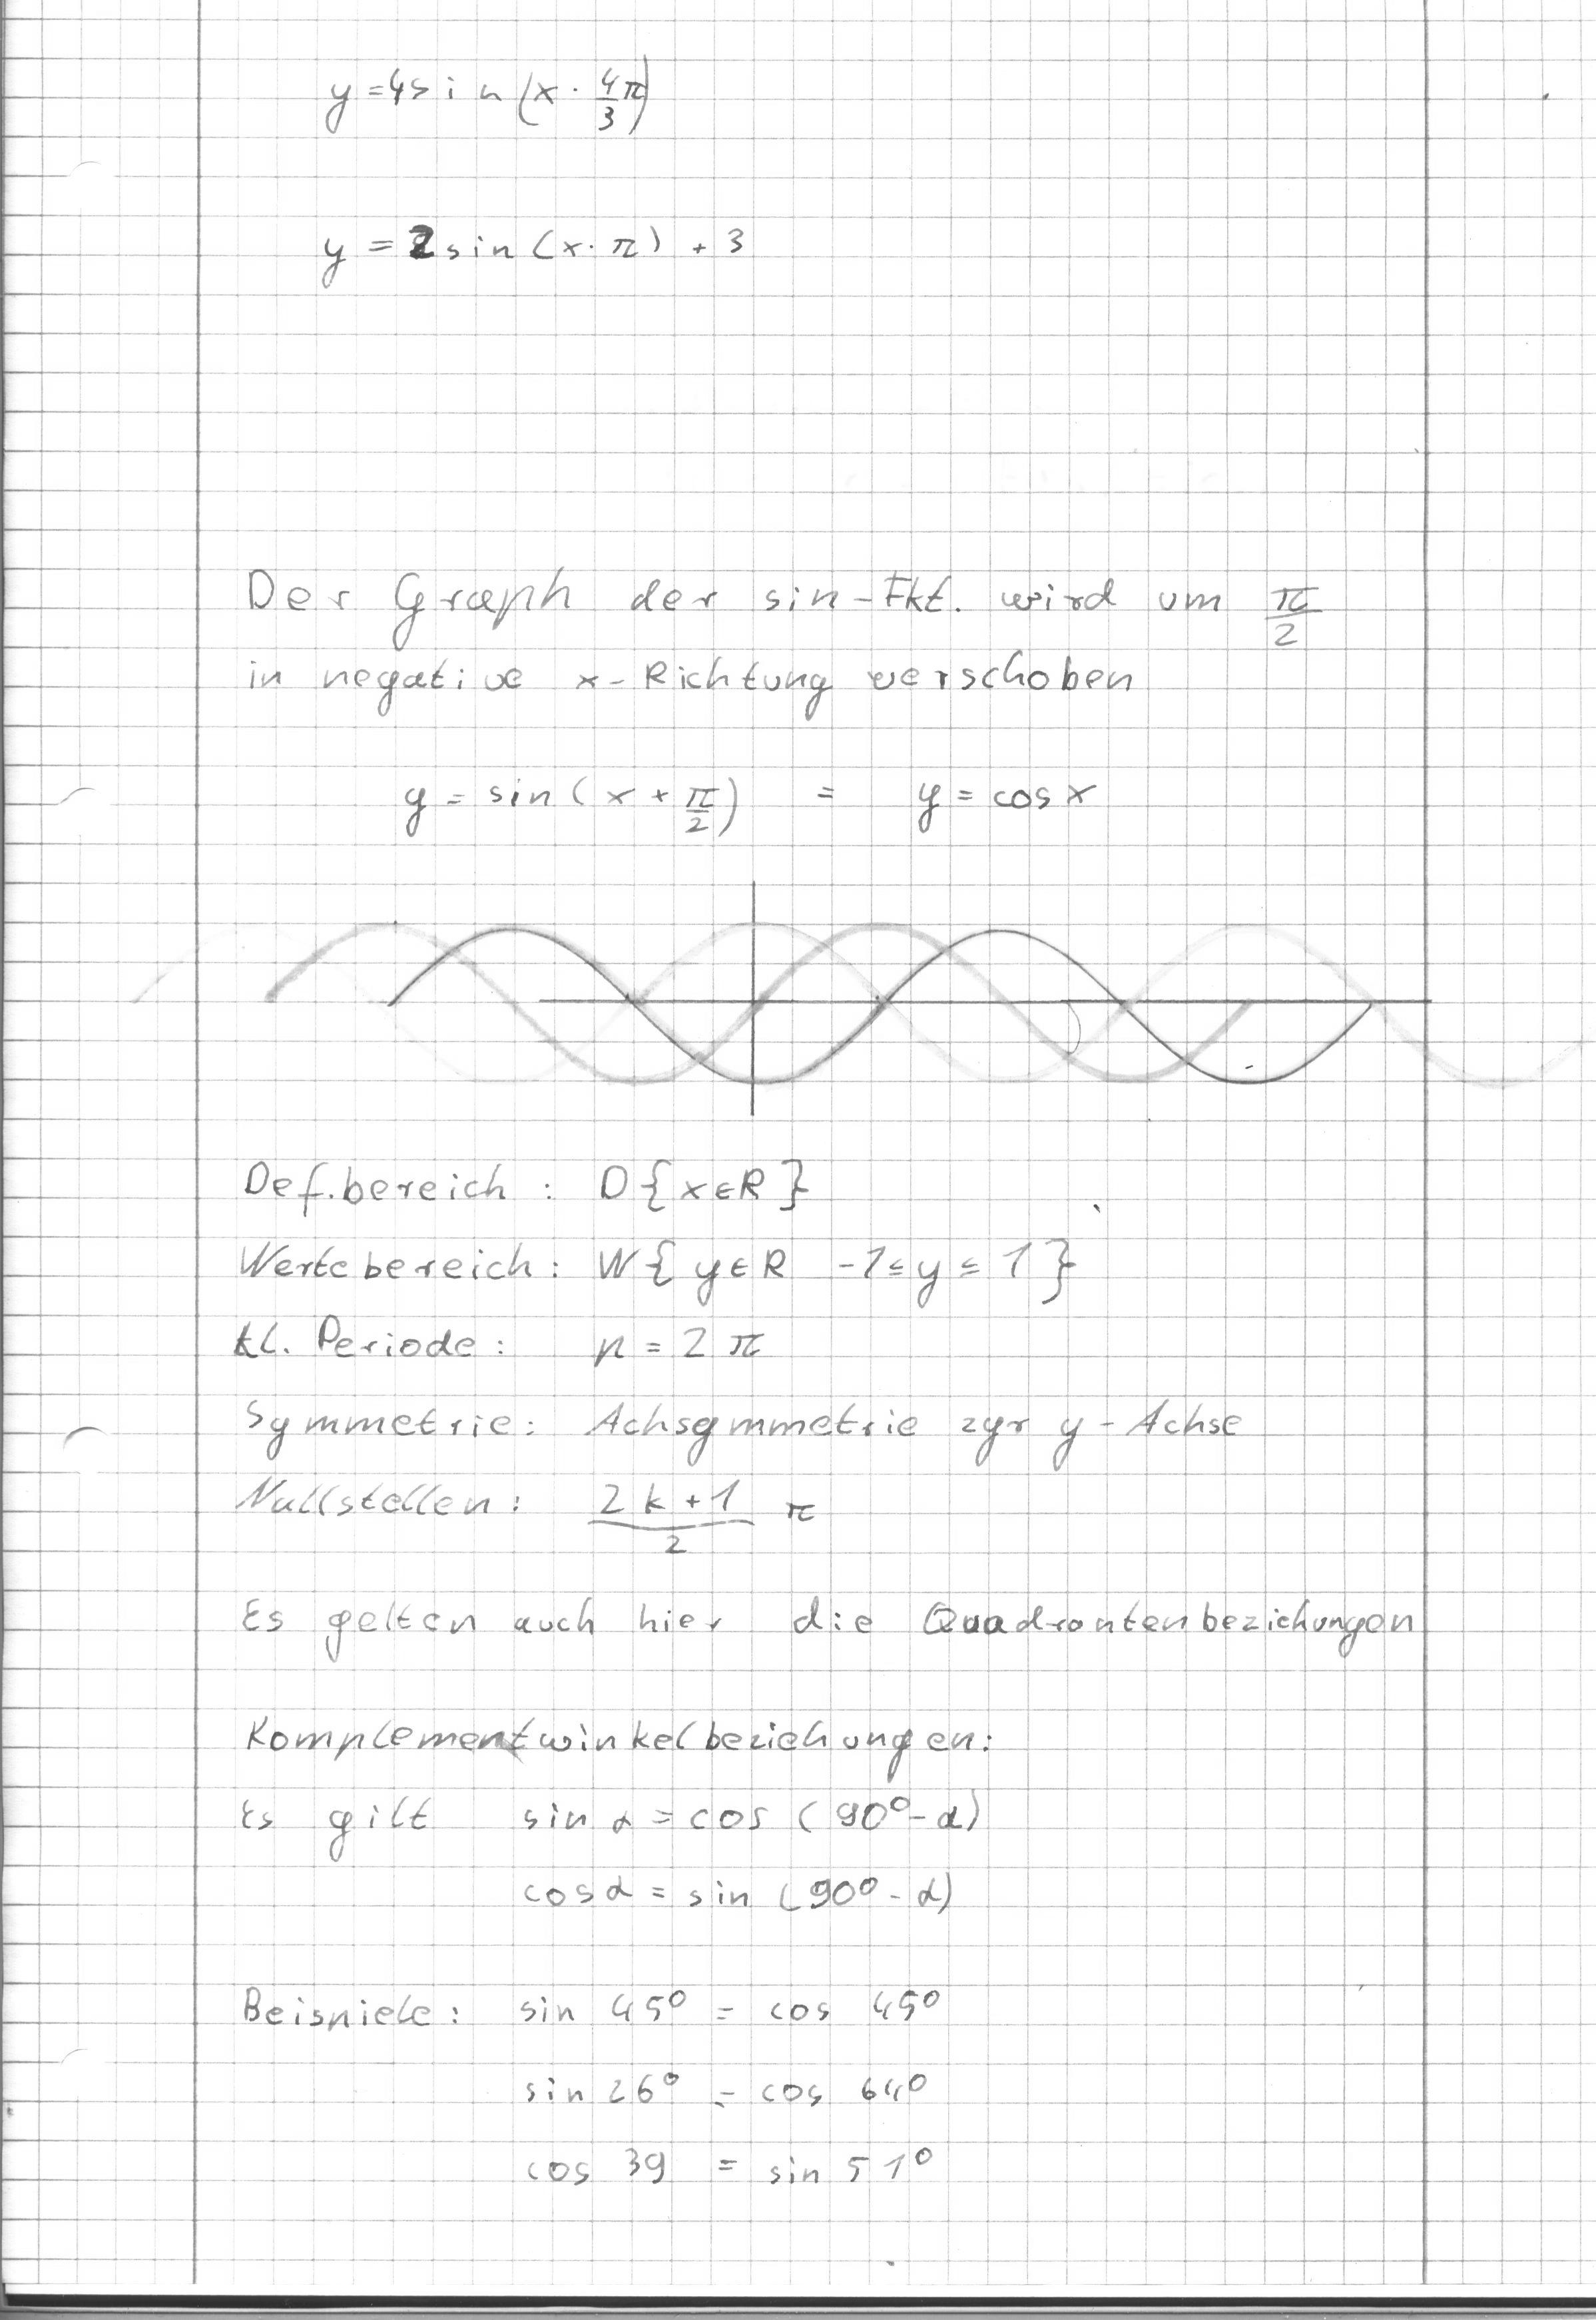word: (210, 533, 1338, 868), (577, 1138, 1262, 1576), (222, 1964, 968, 2239), (224, 1696, 1001, 1946), (201, 1129, 571, 1548), (287, 26, 779, 313), (208, 1566, 1428, 1677)
